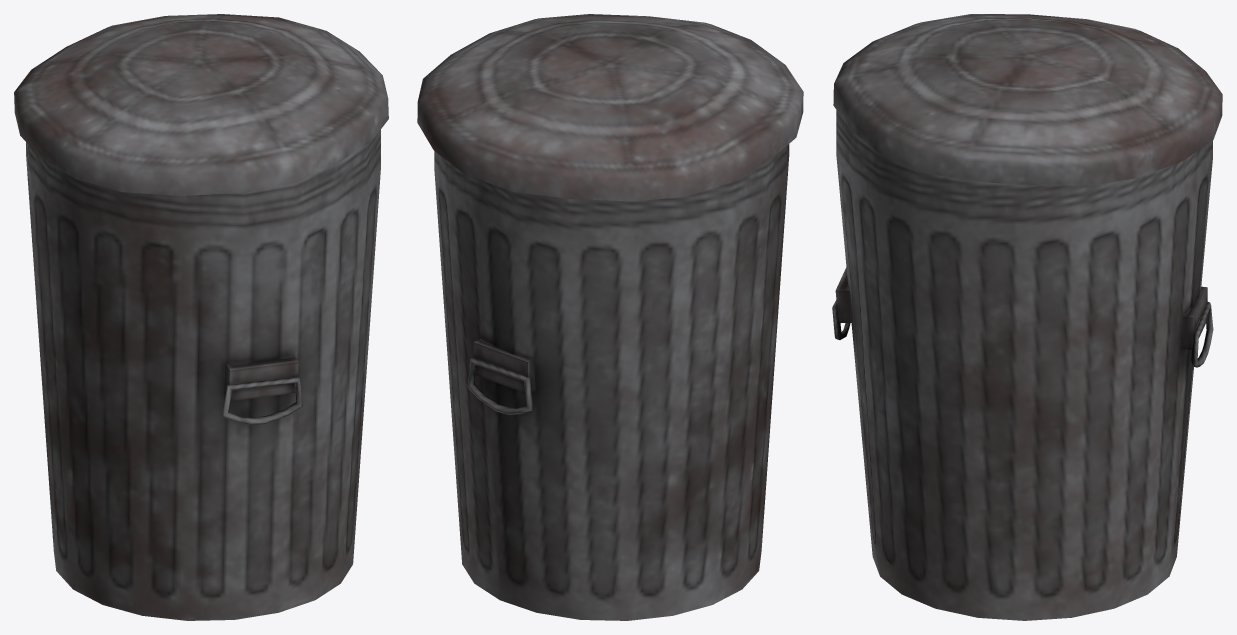
File: Trash_Can_01.fbx
3 renders of one model, left to right at view 1: azimuth 30°, elevation 25°; view 2: azimuth 150°, elevation 25°; view 3: azimuth 270°, elevation 25°, orthographic.
Visible parts, largest first — view 1: Trash_Can_Base, Trash_Can_Cover; view 2: Trash_Can_Base, Trash_Can_Cover; view 3: Trash_Can_Base, Trash_Can_Cover.
Part boxes in pixels (left/top/right/bottom): Trash_Can_Base: left=26, top=130, right=380, bottom=620; Trash_Can_Cover: left=14, top=14, right=388, bottom=195; Trash_Can_Base: left=434, top=144, right=789, bottom=620; Trash_Can_Cover: left=417, top=14, right=803, bottom=201; Trash_Can_Base: left=832, top=110, right=1213, bottom=620; Trash_Can_Cover: left=833, top=14, right=1222, bottom=185.
Bounding box in the file's own units: 59.99 × 88.94 × 62.95.
